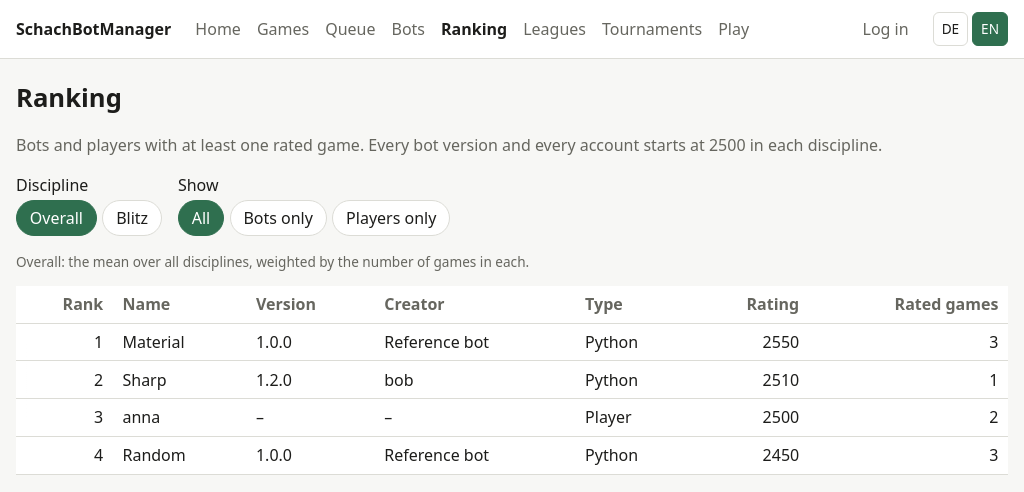
Test: ratings page › ranks by the overall rating or within one discipline
Expected: the text "weighted by the number of games" is shown, [16, 252, 529, 271]
Click the button "Blitz": [132, 218] box [102, 200, 162, 236]
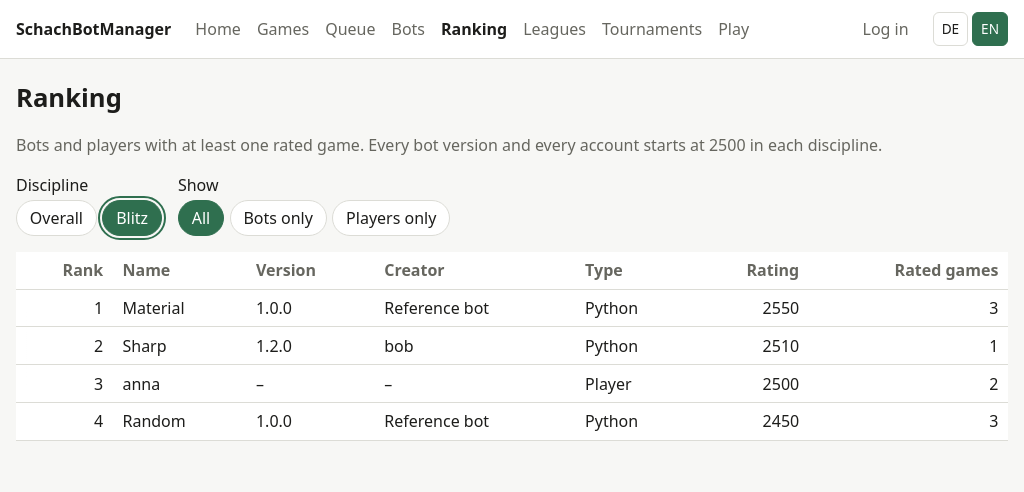
Now the text "weighted by the number of games" is gone
